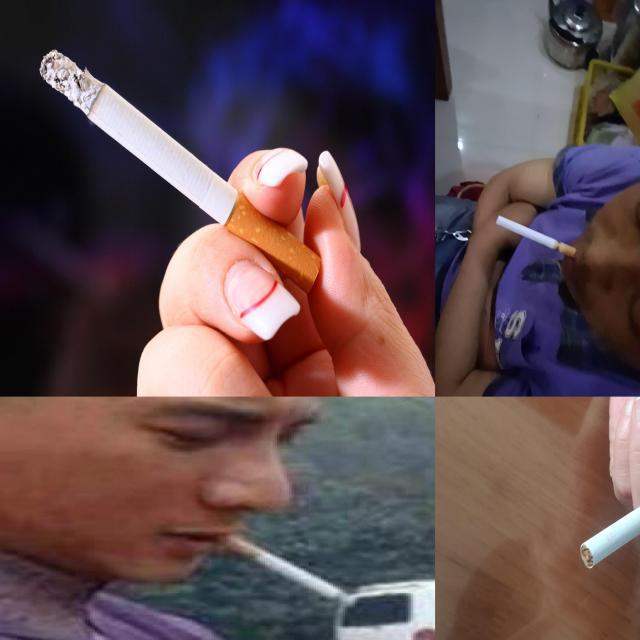smoke: (38, 48, 324, 294), (206, 532, 360, 607), (579, 456, 640, 570), (496, 214, 578, 258)
